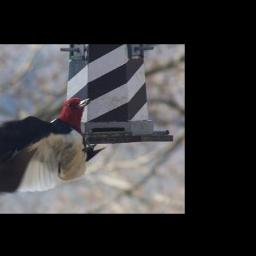Woodpecker: (0, 91, 102, 196)
